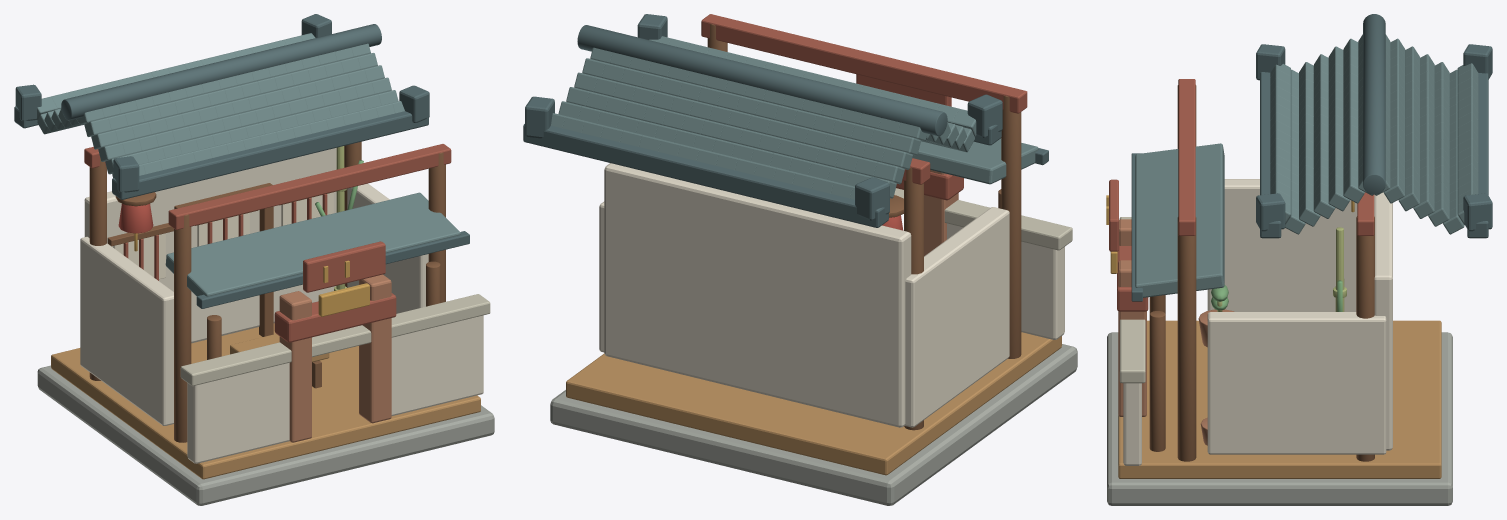
Rendered from building_house_open.glb.
3 views of the same model, side by side, from view 1: azimuth 30°, elevation 25°; view 2: azimuth 150°, elevation 25°; view 3: azimuth 270°, elevation 25° (orthographic). The views are drawn at different scales.
Parts seen in each view (by area): view 1: WingWallL, RaisedFloor, Foundation, VerandaCanopy, RearHallWall, CourtyardWall, CourtyardWall.001, RoofRidge, TopBeam, EaveBeam, WallCap, GatePillarR (+22 smaller); view 2: RearHallWall, RaisedFloor, Foundation, WingWallL, RoofRidge, EaveBeam.001, TopBeam, CourtyardWall, TimberPost, VerandaCanopy, WallCap, TimberPost.001 (+8 smaller); view 3: WingWallR, RaisedFloor, Foundation, WingWallL, VerandaCanopy, TimberPost.002, RoofRidge, RearHallWall, TopBeam, VerandaPost.001, WallCap, TimberPost.003 (+13 smaller).
Part boxes in pixels (x1,y1,x2,y2): WingWallL: [80, 236, 173, 425]; RaisedFloor: [51, 323, 480, 479]; Foundation: [37, 365, 494, 505]; VerandaCanopy: [165, 192, 460, 296]; RearHallWall: [84, 148, 336, 343]; CourtyardWall: [187, 362, 289, 463]; CourtyardWall.001: [391, 315, 483, 415]; RoofRidge: [61, 24, 381, 120]; TopBeam: [168, 144, 451, 229]; EaveBeam: [112, 111, 428, 199]; WallCap: [180, 294, 490, 385]; GatePillarR: [359, 274, 391, 423]; RearHallWall: [604, 163, 911, 427]; RaisedFloor: [566, 332, 1061, 475]; Foundation: [550, 344, 1077, 505]; WingWallL: [905, 207, 1009, 427]; RoofRidge: [577, 25, 947, 136]; EaveBeam.001: [523, 124, 888, 227]; TopBeam: [701, 14, 1027, 113]; CourtyardWall: [947, 223, 1064, 339]; TimberPost: [1001, 95, 1021, 358]; VerandaCanopy: [912, 138, 1038, 184]; WallCap: [894, 188, 1072, 250]; TimberPost.001: [904, 167, 923, 430]; WingWallR: [1207, 312, 1386, 454]; RaisedFloor: [1118, 320, 1441, 478]; Foundation: [1107, 332, 1452, 505]; WingWallL: [1207, 179, 1357, 311]; VerandaCanopy: [1135, 143, 1224, 297]; TimberPost.002: [1177, 217, 1196, 461]; RoofRidge: [1363, 14, 1385, 194]; RearHallWall: [1374, 192, 1392, 450]; TopBeam: [1178, 79, 1195, 235]; VerandaPost.001: [1149, 311, 1165, 451]; WallCap: [1119, 217, 1145, 383]; TimberPost.003: [1356, 216, 1374, 461].
Bounding box in the file's own units: 2.66 × 2.6 × 2.7.
